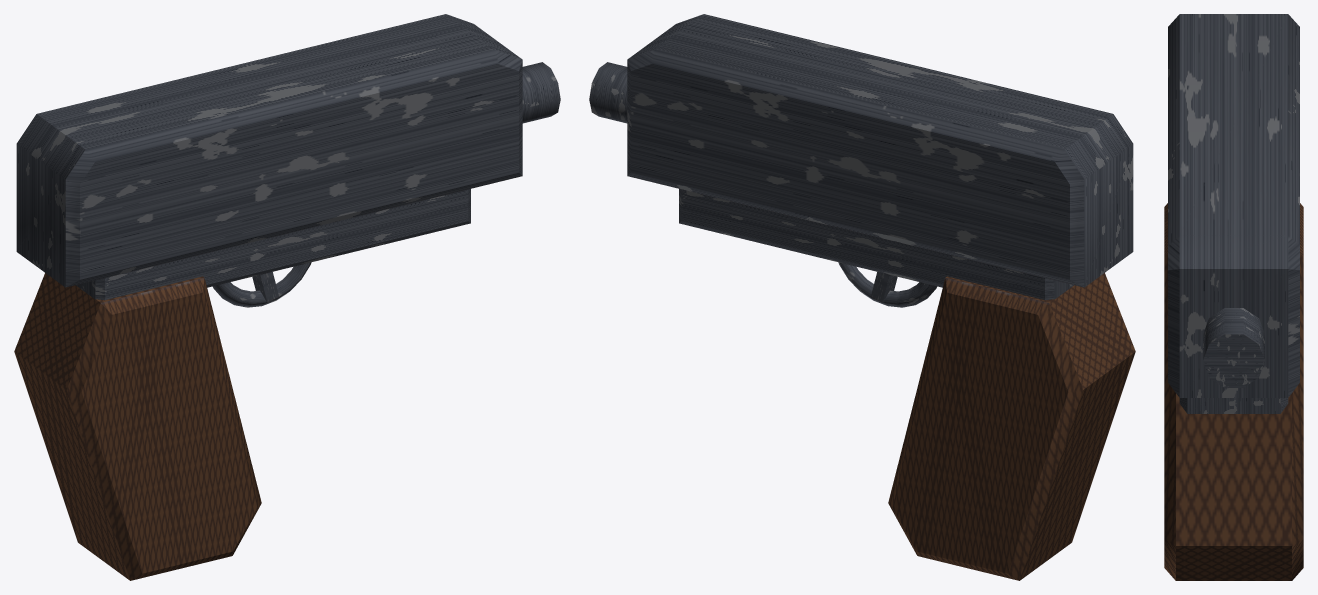
File: candygun.obj
3 renders of one model, left to right at view 1: azimuth 30°, elevation 25°; view 2: azimuth 150°, elevation 25°; view 3: azimuth 270°, elevation 25°, orthographic. The views are drawn at different scales.
Visible parts, largest first — view 1: candygun_0_surface, candygun_1_surface; view 2: candygun_0_surface, candygun_1_surface; view 3: candygun_0_surface, candygun_1_surface.
Boxes of the visible parts, x1=… form: candygun_0_surface: x1=16, y1=14, x2=560, y2=307; candygun_1_surface: x1=14, y1=273, x2=261, y2=580; candygun_0_surface: x1=589, y1=14, x2=1133, y2=307; candygun_1_surface: x1=888, y1=273, x2=1135, y2=580; candygun_0_surface: x1=1168, y1=14, x2=1299, y2=413; candygun_1_surface: x1=1164, y1=203, x2=1303, y2=580.
Size of the model in its own units: 0.1672 by 0.139 by 0.036.
Materials: 2 (2 with a texture image).
